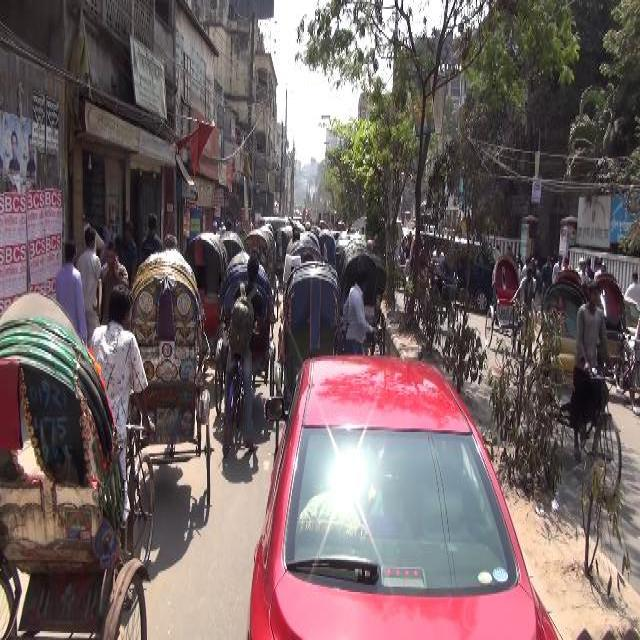bicycle: (0, 278, 156, 636), (128, 233, 212, 517), (218, 345, 248, 466)
car: (249, 348, 557, 638)
rickshaw: (540, 271, 624, 508), (275, 246, 339, 356), (180, 224, 224, 345), (482, 252, 530, 348), (271, 225, 295, 287)
